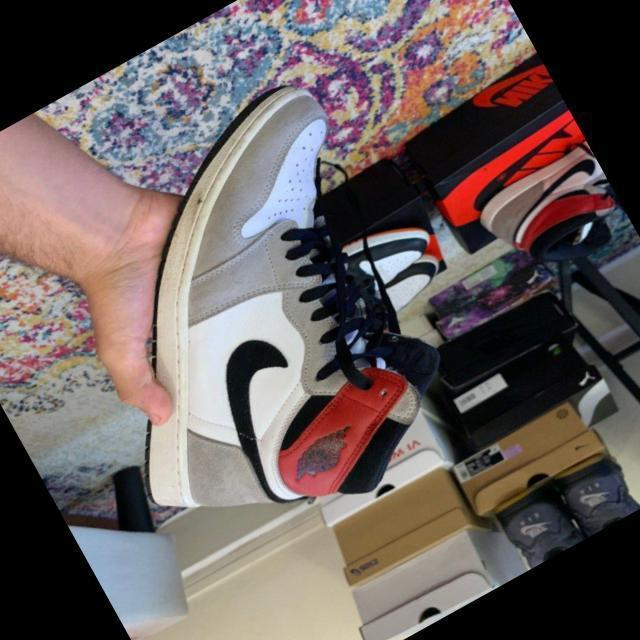nike original jordan 1: (0, 66, 503, 594)
